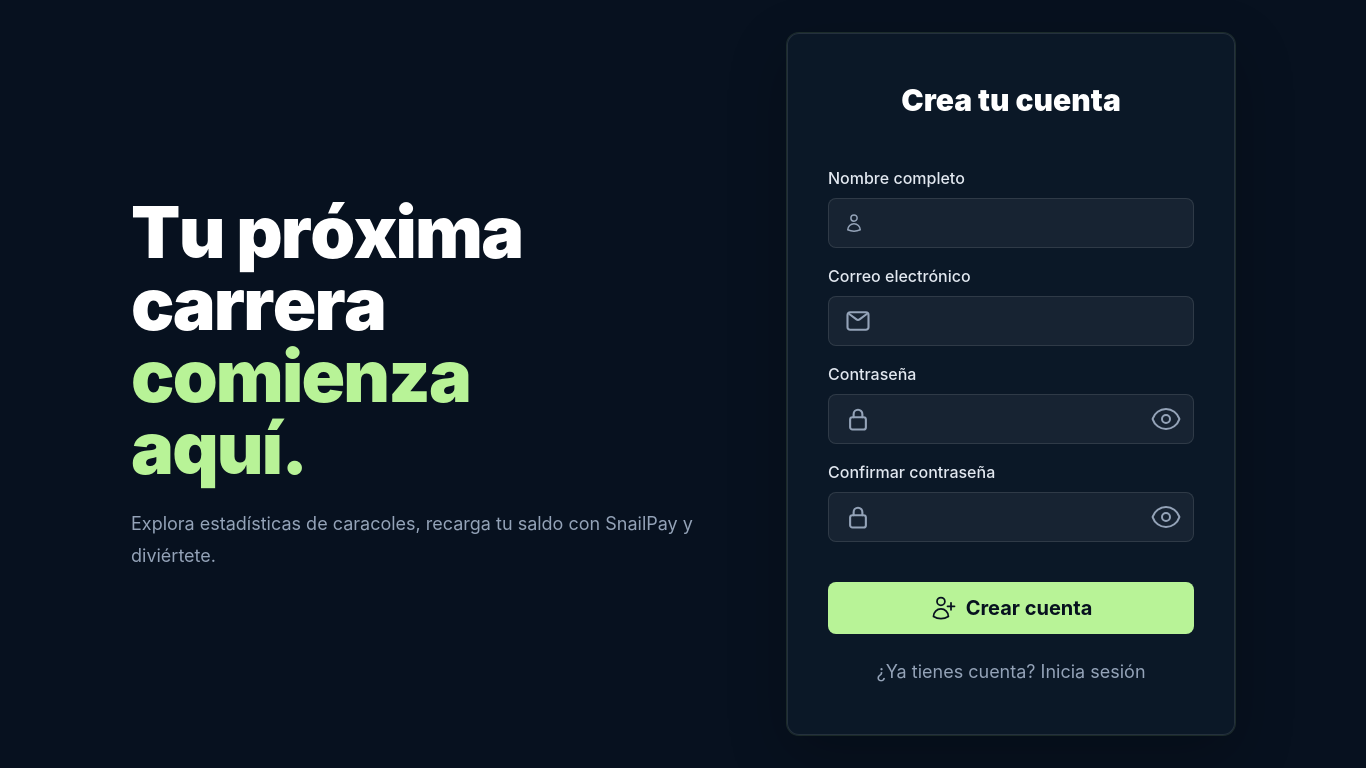
it: RegisterPage › field normalization › lowercases the email and removes disallowed characters
Type "ADA Lovelace@Example.COM" into the field labelled "Correo electrónico" at coordinates (1011, 321), box [828,296,1194,346]
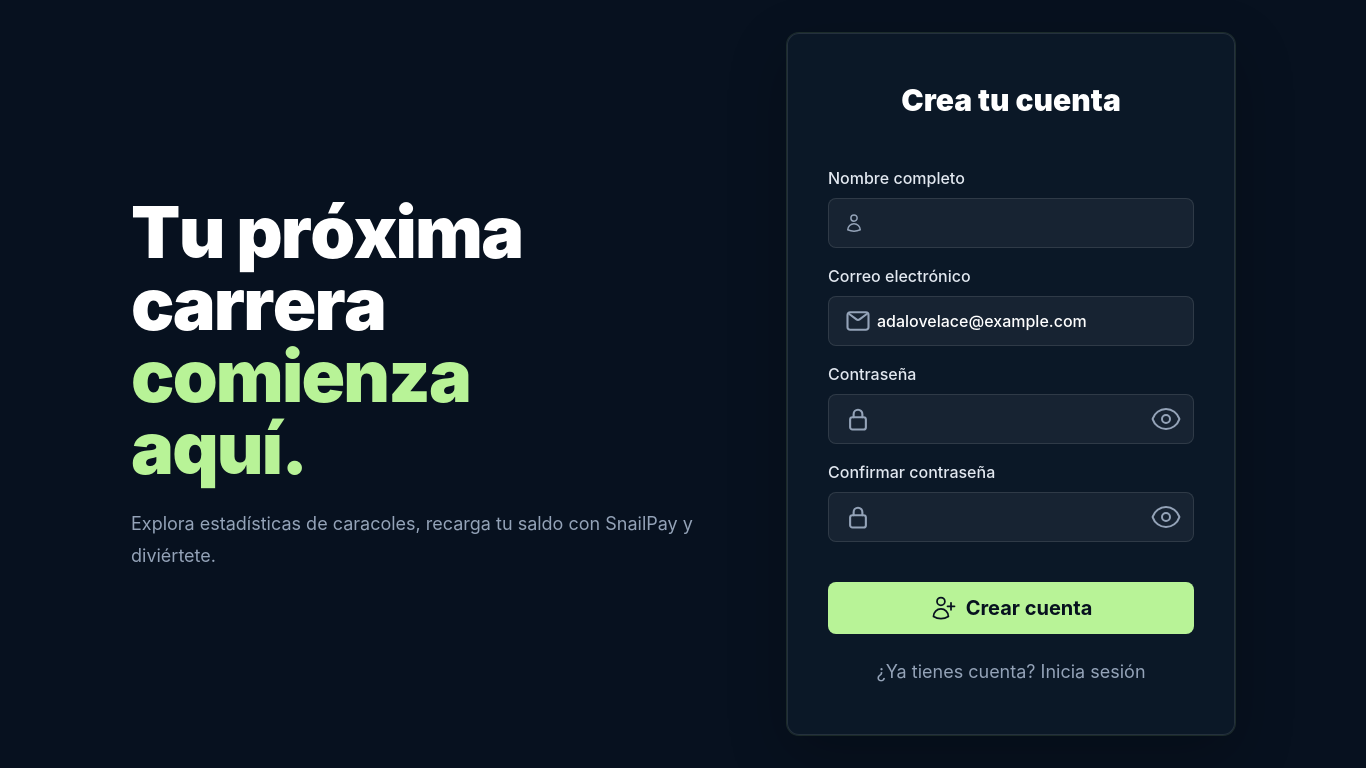
expect the field labelled "Correo electrónico" holds "adalovelace@example.com": met, box [828,296,1194,346]
